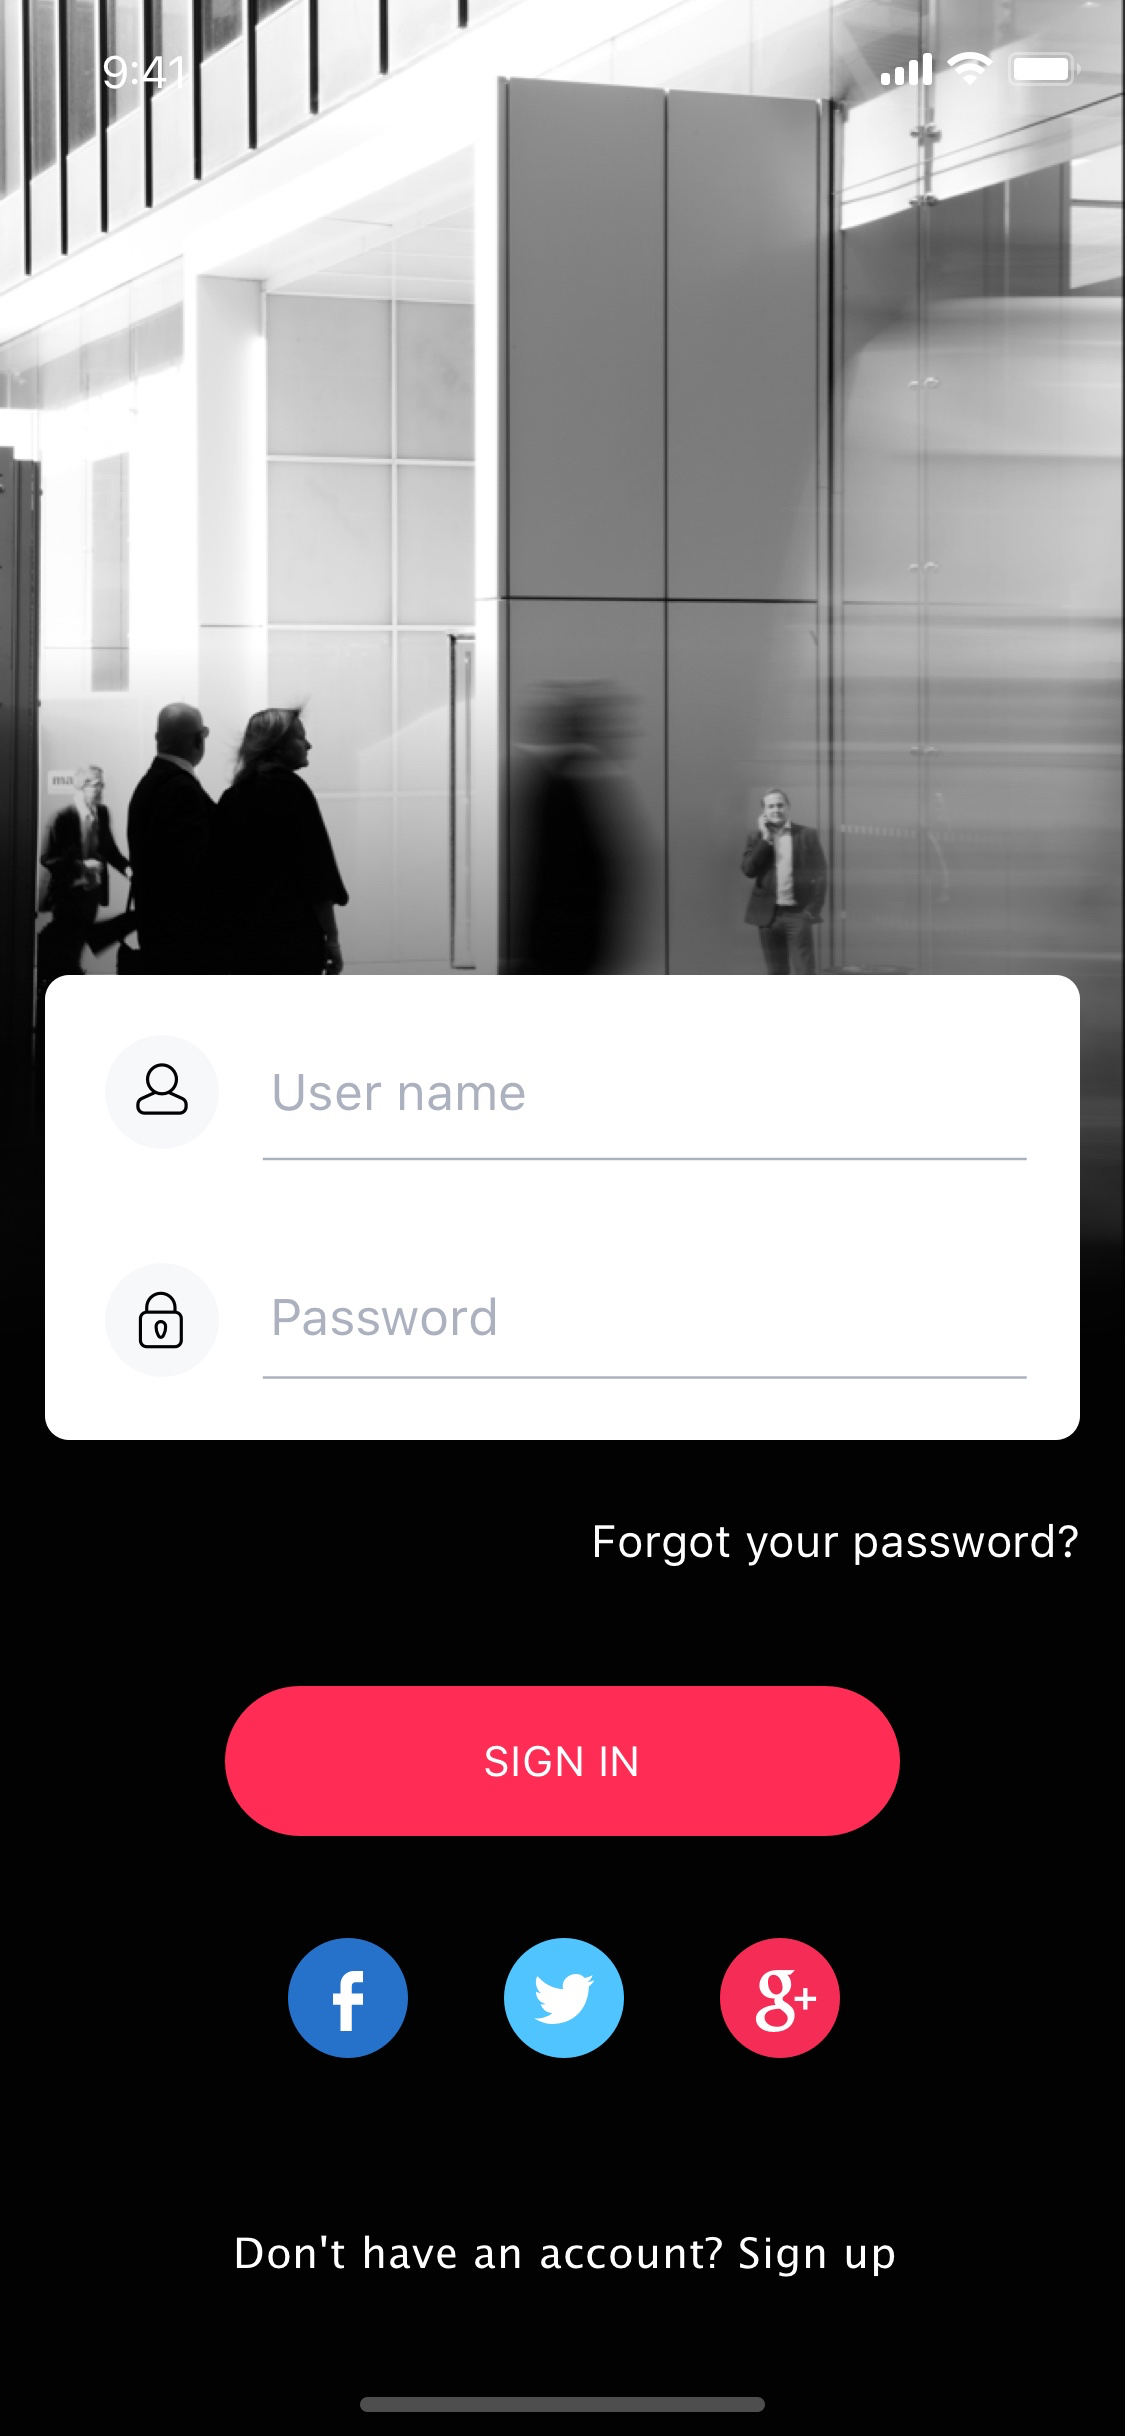EditText: (263, 1074, 1029, 1164), (263, 1297, 1029, 1381)
Icon: (287, 1937, 409, 2058), (503, 1937, 625, 2058), (719, 1937, 841, 2058), (106, 1035, 221, 1150), (106, 1263, 221, 1378)
Image: (2, 2, 1125, 976)
Text: (238, 2234, 895, 2278), (594, 1522, 1078, 1568), (273, 1072, 527, 1112), (273, 1296, 497, 1338)
TextButton: (225, 1686, 901, 1836)
UpperTaskBar: (104, 51, 1085, 90)
